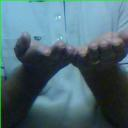hand: (13, 32, 73, 72), (73, 30, 128, 69)
